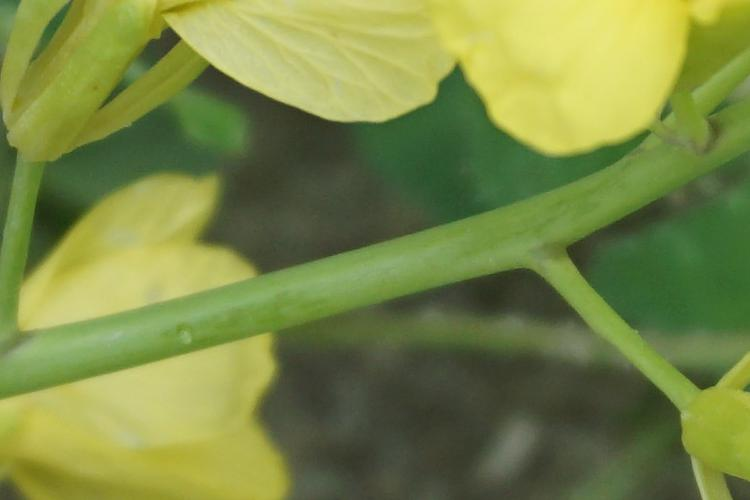yellow: (12, 2, 687, 154), (10, 179, 297, 500)
